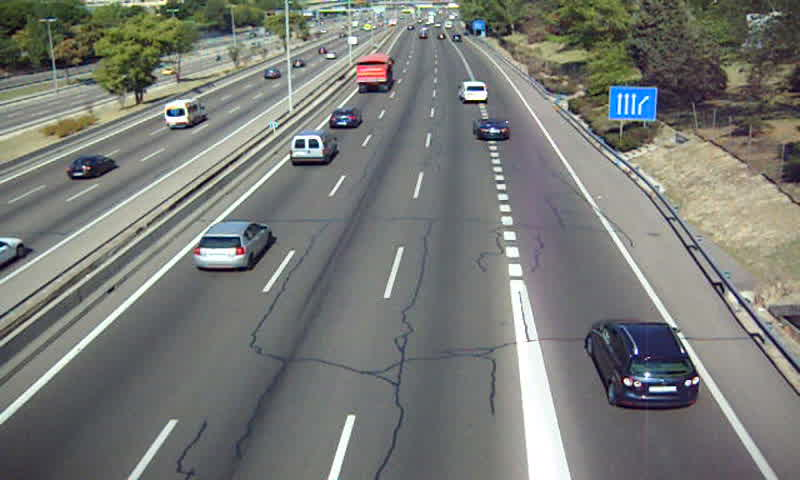car: (586, 320, 700, 410), (193, 221, 274, 268), (474, 118, 512, 142), (328, 107, 363, 128)
truck: (355, 55, 396, 91)
van: (288, 131, 335, 164), (458, 81, 489, 104)
